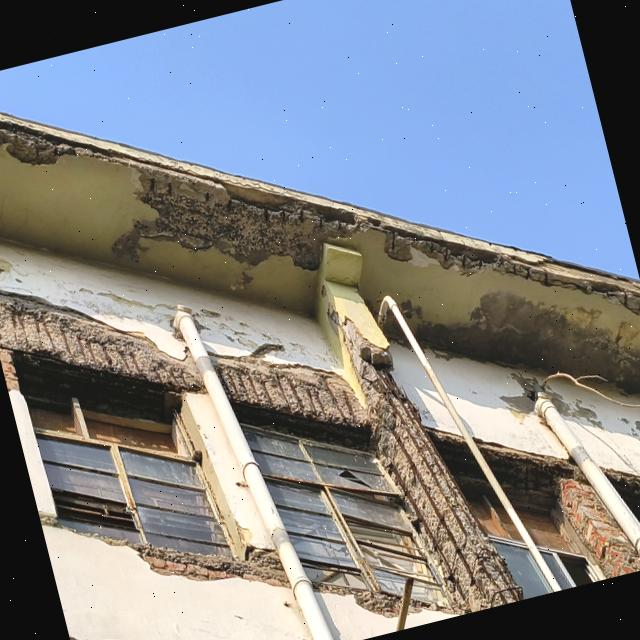peeling: (407, 293, 640, 390), (0, 260, 178, 332), (190, 294, 283, 350), (546, 383, 605, 428), (499, 372, 537, 413), (296, 340, 331, 368)
spalling: (0, 119, 640, 312), (342, 319, 523, 612), (0, 289, 202, 392), (203, 340, 366, 430), (477, 439, 617, 527), (91, 534, 290, 589), (552, 478, 640, 578), (427, 427, 487, 505), (312, 581, 402, 617), (409, 599, 447, 613)
